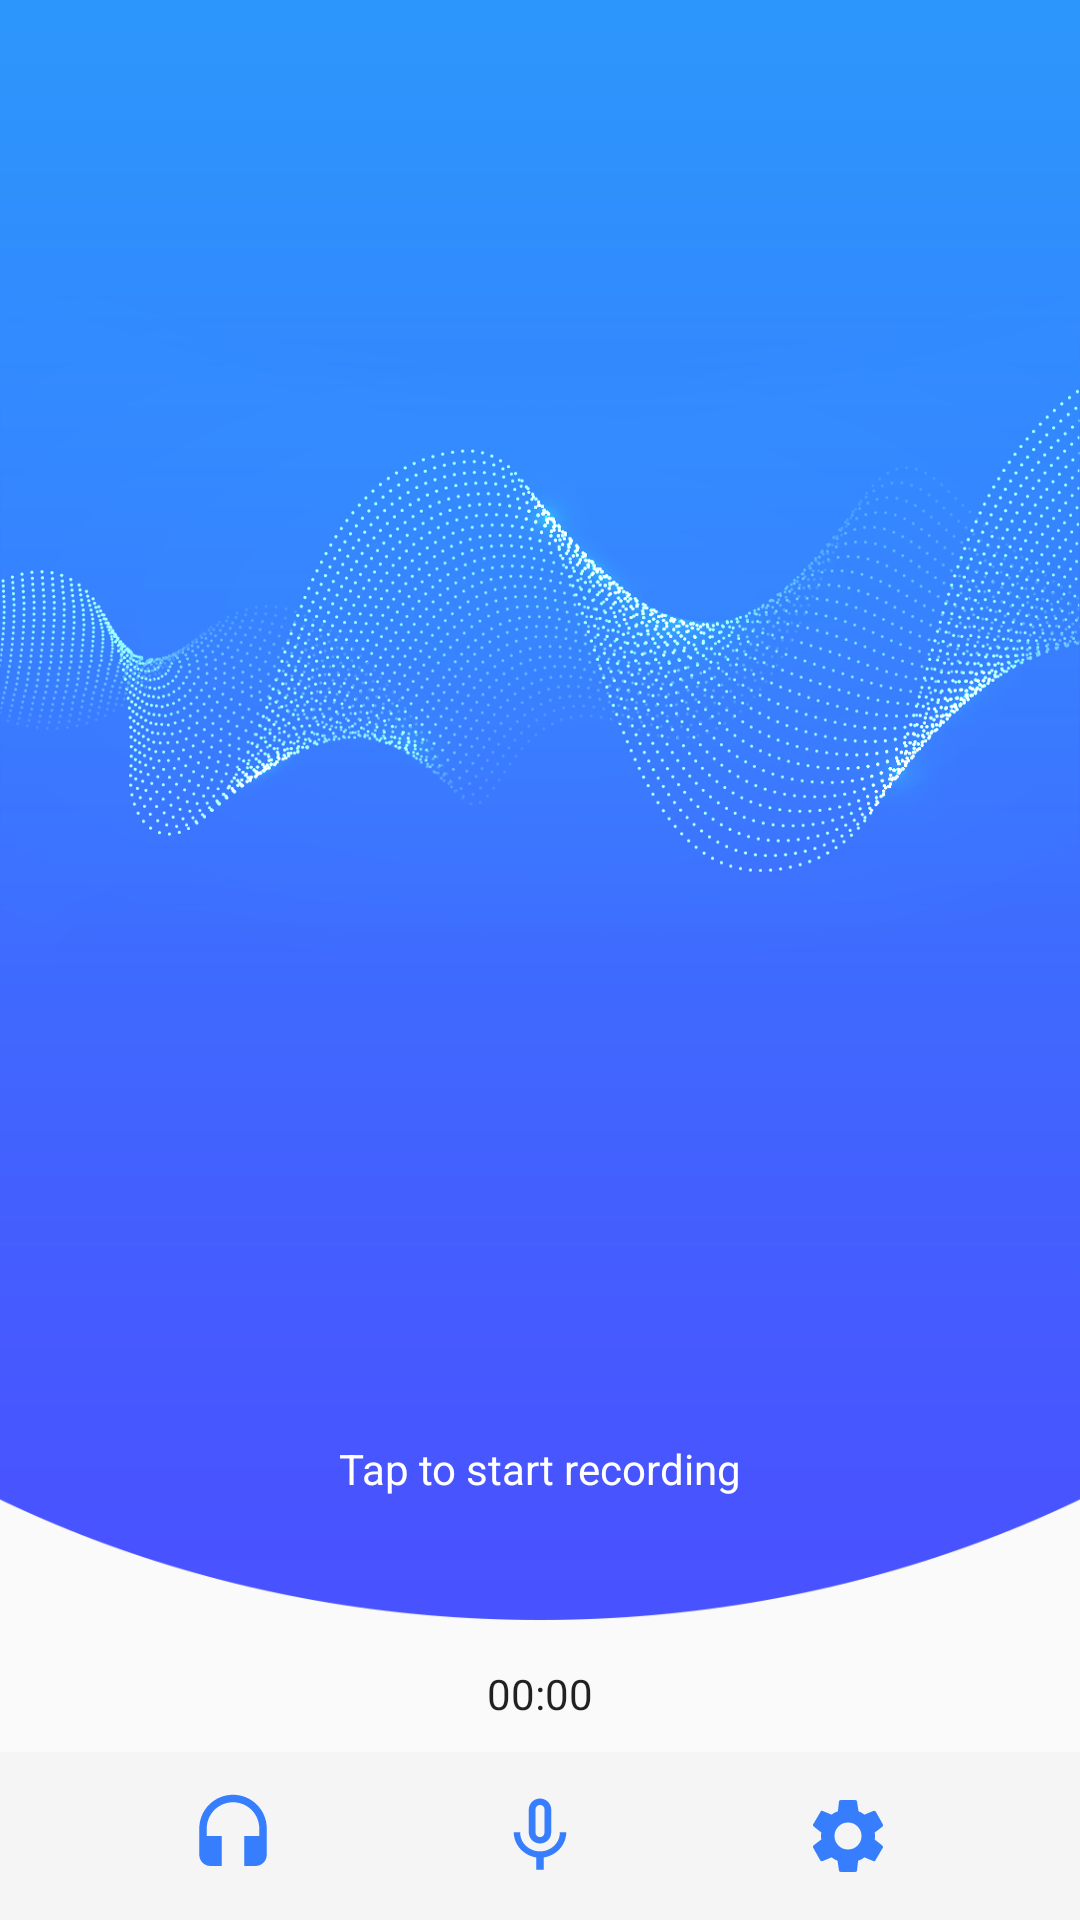

Screen size 1080w x 1920h. Icon name, then its box in pixels as (x1,y1,x2,y2):
headset: (199,1794,267,1866)
mic none: (513,1798,567,1870)
settings: (813,1800,883,1872)
